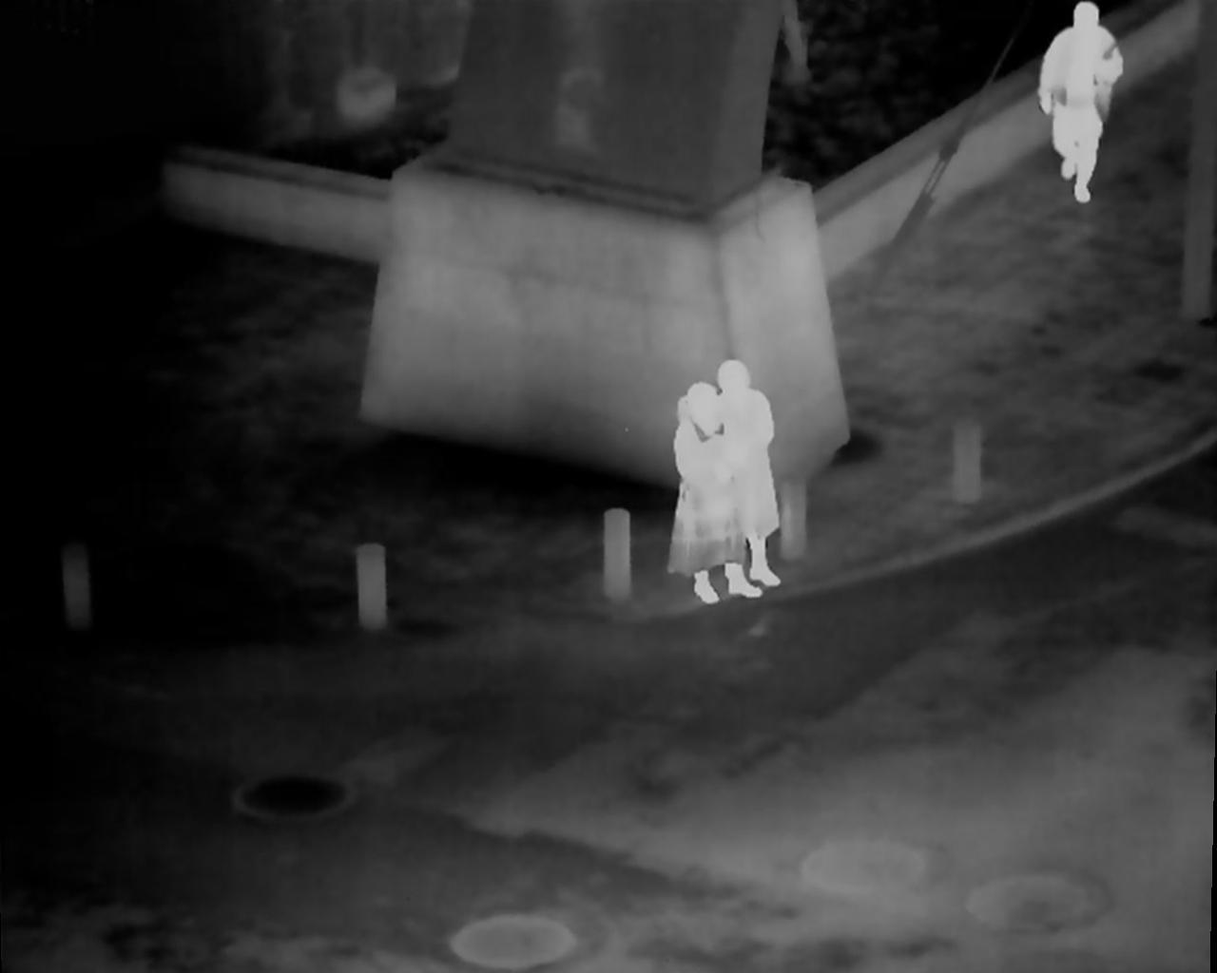person: (668, 383, 757, 602), (717, 355, 775, 594)
